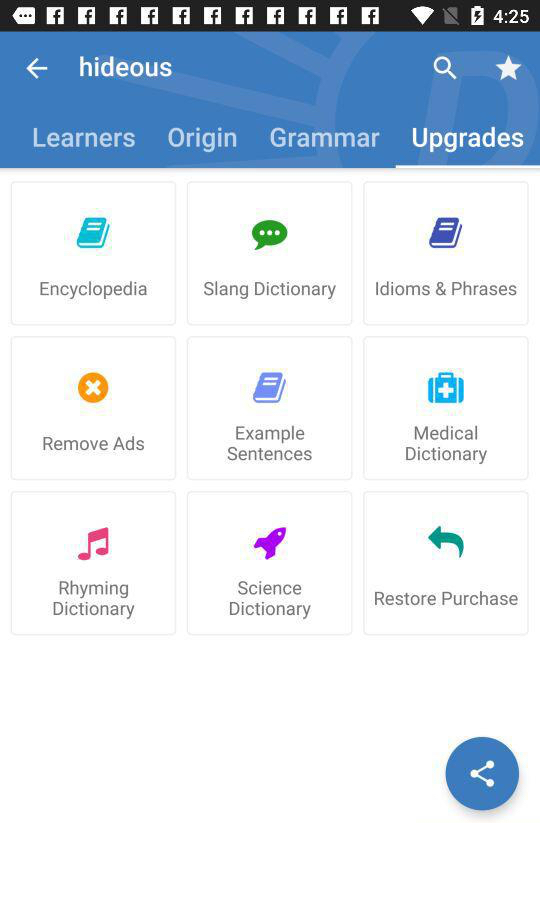Card: (186, 489, 356, 637), (364, 491, 533, 639), (10, 335, 180, 482), (10, 490, 179, 637), (361, 335, 530, 482), (186, 335, 355, 482), (361, 180, 530, 327), (186, 181, 355, 327), (10, 181, 179, 327)
Icon: (445, 736, 520, 812), (426, 525, 464, 559), (252, 220, 289, 251), (78, 372, 109, 404), (494, 55, 522, 82), (433, 56, 458, 82), (25, 58, 49, 82)
Image: (73, 214, 114, 255), (426, 371, 465, 405), (253, 527, 287, 561), (428, 217, 463, 250), (78, 527, 110, 561), (253, 372, 287, 404)
Text: (40, 267, 148, 312), (405, 424, 488, 465), (230, 580, 312, 620), (53, 580, 135, 620), (413, 126, 525, 154), (228, 426, 313, 462), (270, 126, 381, 149), (204, 281, 337, 300), (375, 280, 517, 297), (374, 590, 518, 606), (80, 55, 173, 79), (34, 128, 137, 149), (168, 126, 238, 154), (43, 436, 145, 452)
UpperTaskBar: (1, 1, 540, 33)
